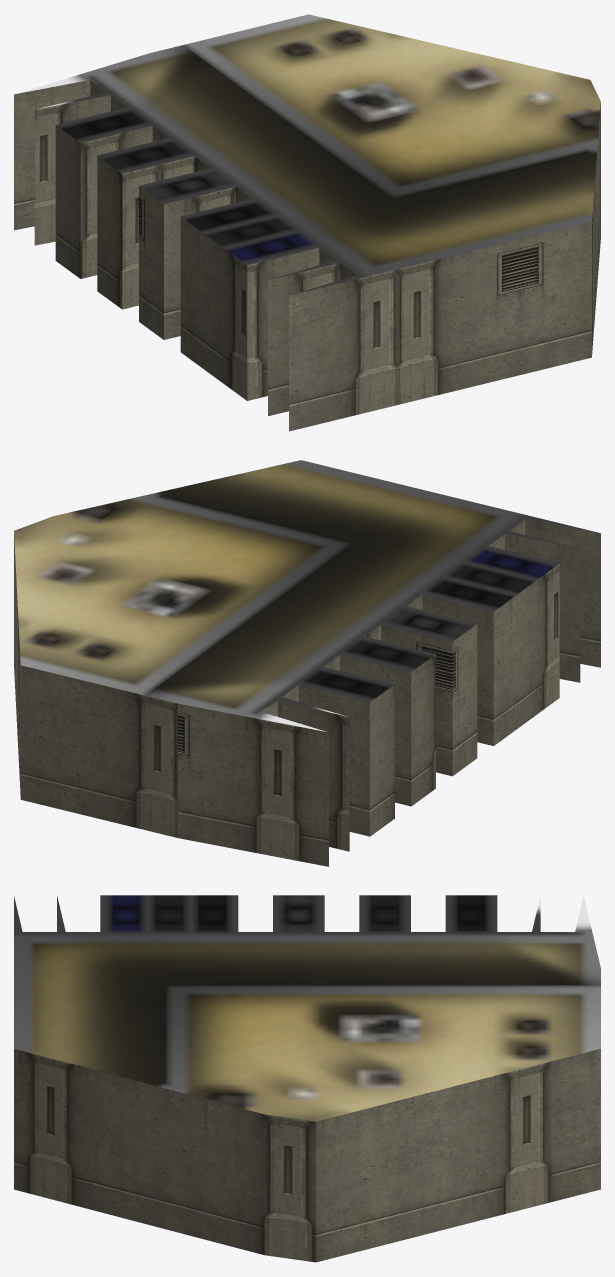
The model's file is BuildingSystem-03-Advance-04-ReinforcedLow-C-100-01.glb.
The picture shows the model from 3 angles, top to bottom: view 1: azimuth 30°, elevation 25°; view 2: azimuth 150°, elevation 25°; view 3: azimuth 270°, elevation 25°; orthographic projection. The views are drawn at different scales.
Visible parts, largest first — view 1: buildings/saxarba/SMV_Buildings/BuildingSystem-03-Advance-04; view 2: buildings/saxarba/SMV_Buildings/BuildingSystem-03-Advance-04; view 3: buildings/saxarba/SMV_Buildings/BuildingSystem-03-Advance-04.
Part boxes in pixels (x1,y1,x2,y2): buildings/saxarba/SMV_Buildings/BuildingSystem-03-Advance-04: (14, 14, 600, 431); buildings/saxarba/SMV_Buildings/BuildingSystem-03-Advance-04: (14, 460, 600, 866); buildings/saxarba/SMV_Buildings/BuildingSystem-03-Advance-04: (14, 895, 600, 1262).
Bounding box in the file's own units: 62 × 18 × 68.
